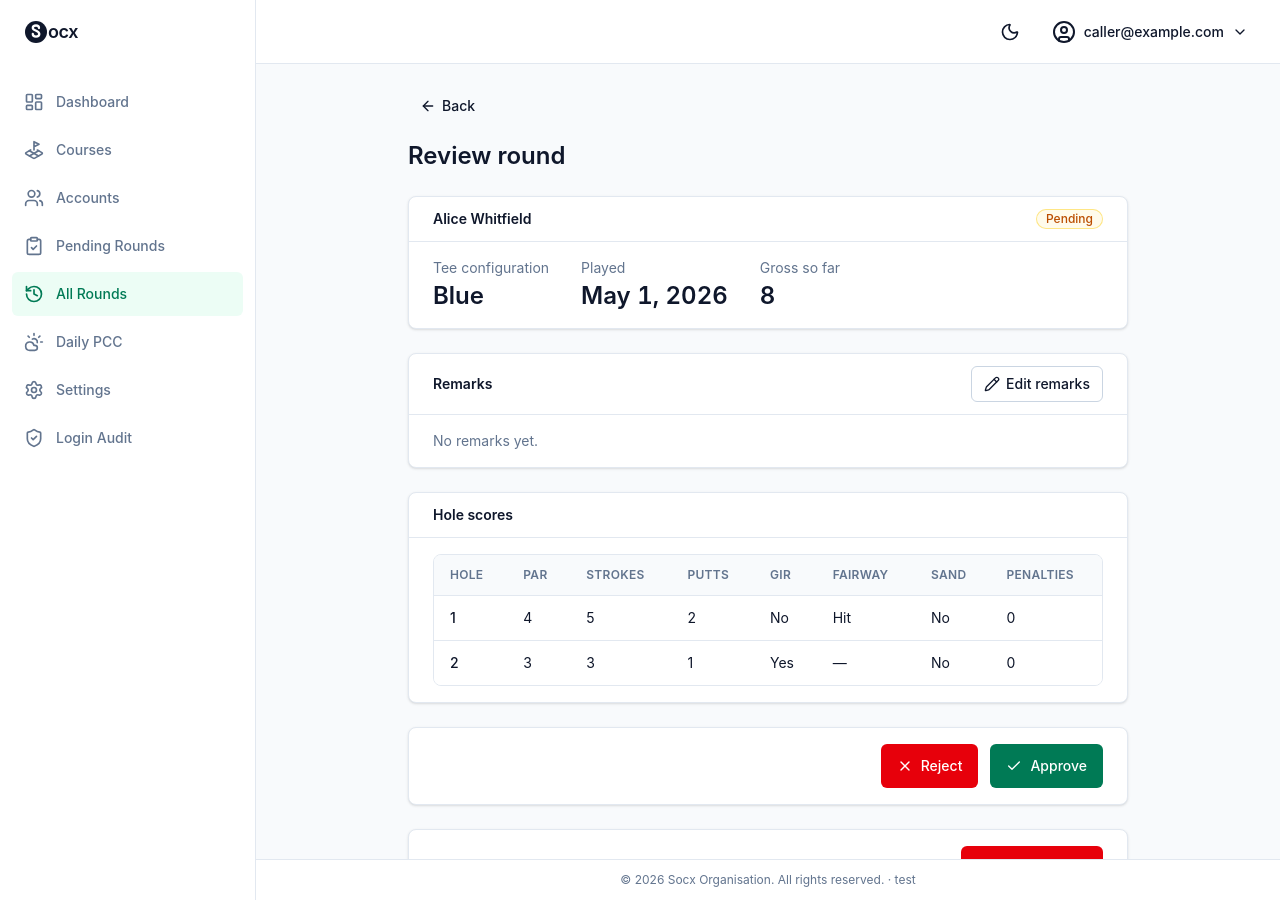
AdminRoundReviewPage › rejects the round with the entered reason, shows a toast, and navigates back to the queue
Click the button "Reject": (930, 766) [881, 744, 978, 788]
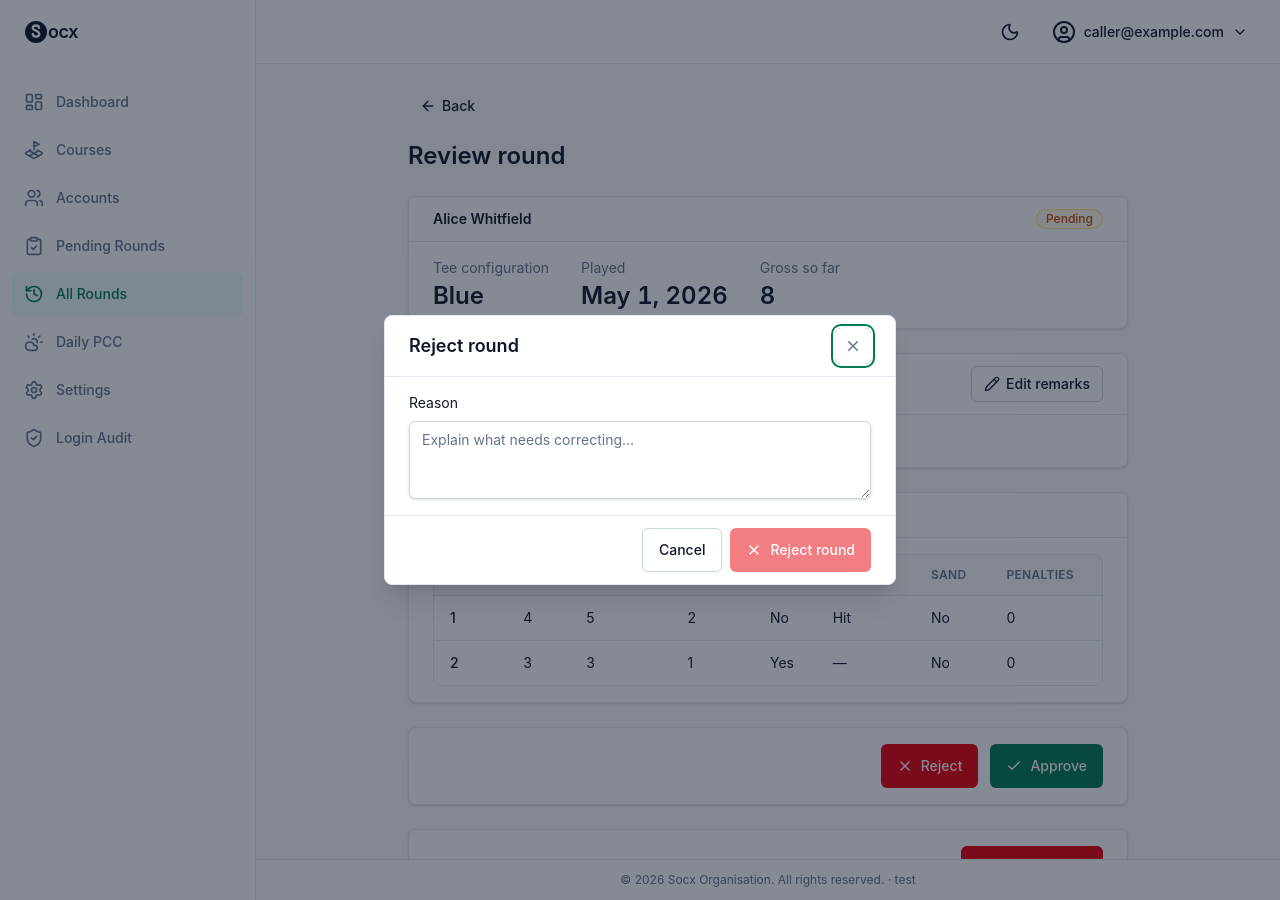
In the text box labelled "Reason": (640, 460) [409, 421, 871, 499], type "Missing hole 2 score."
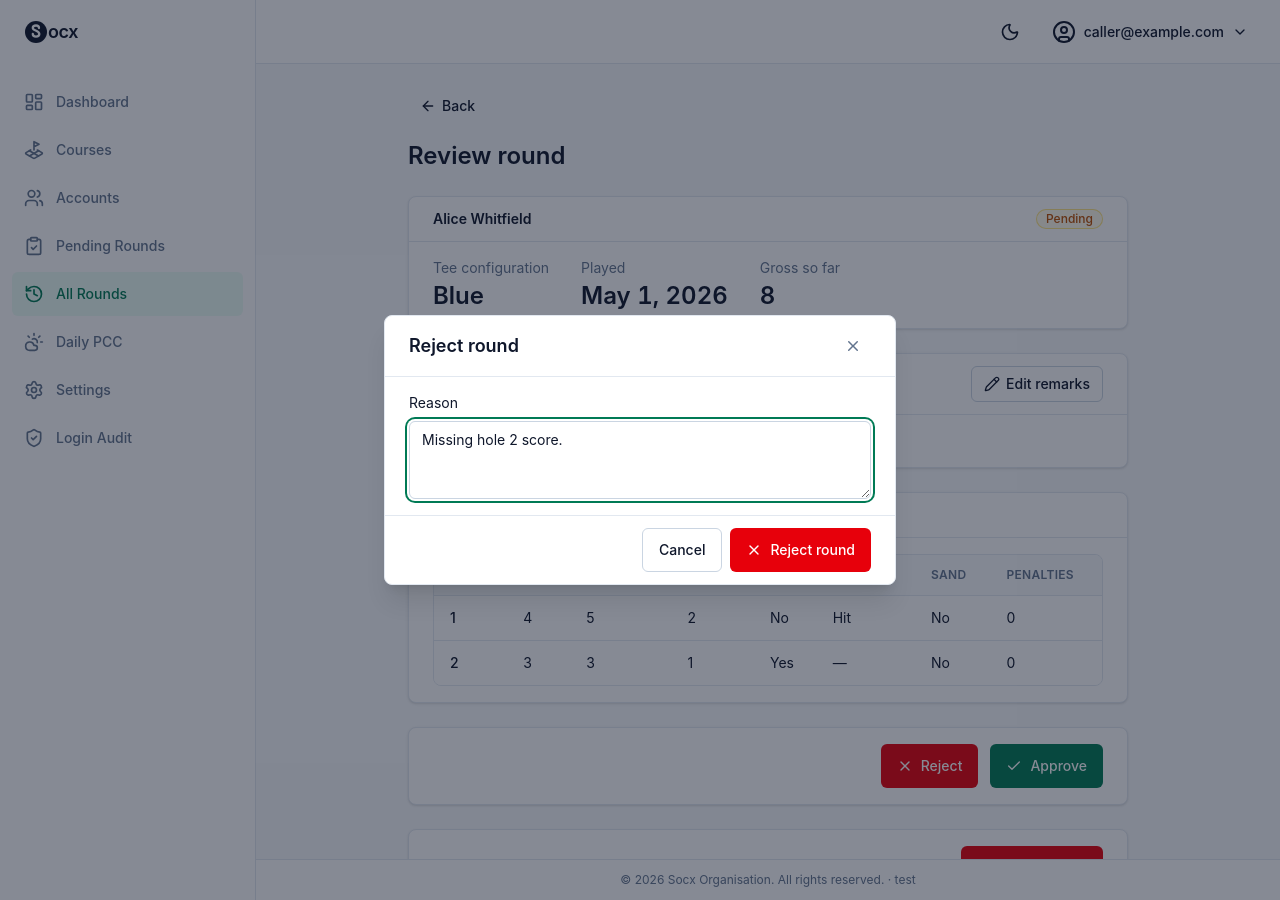
Click the button "Reject round": (801, 550) [730, 528, 871, 572]
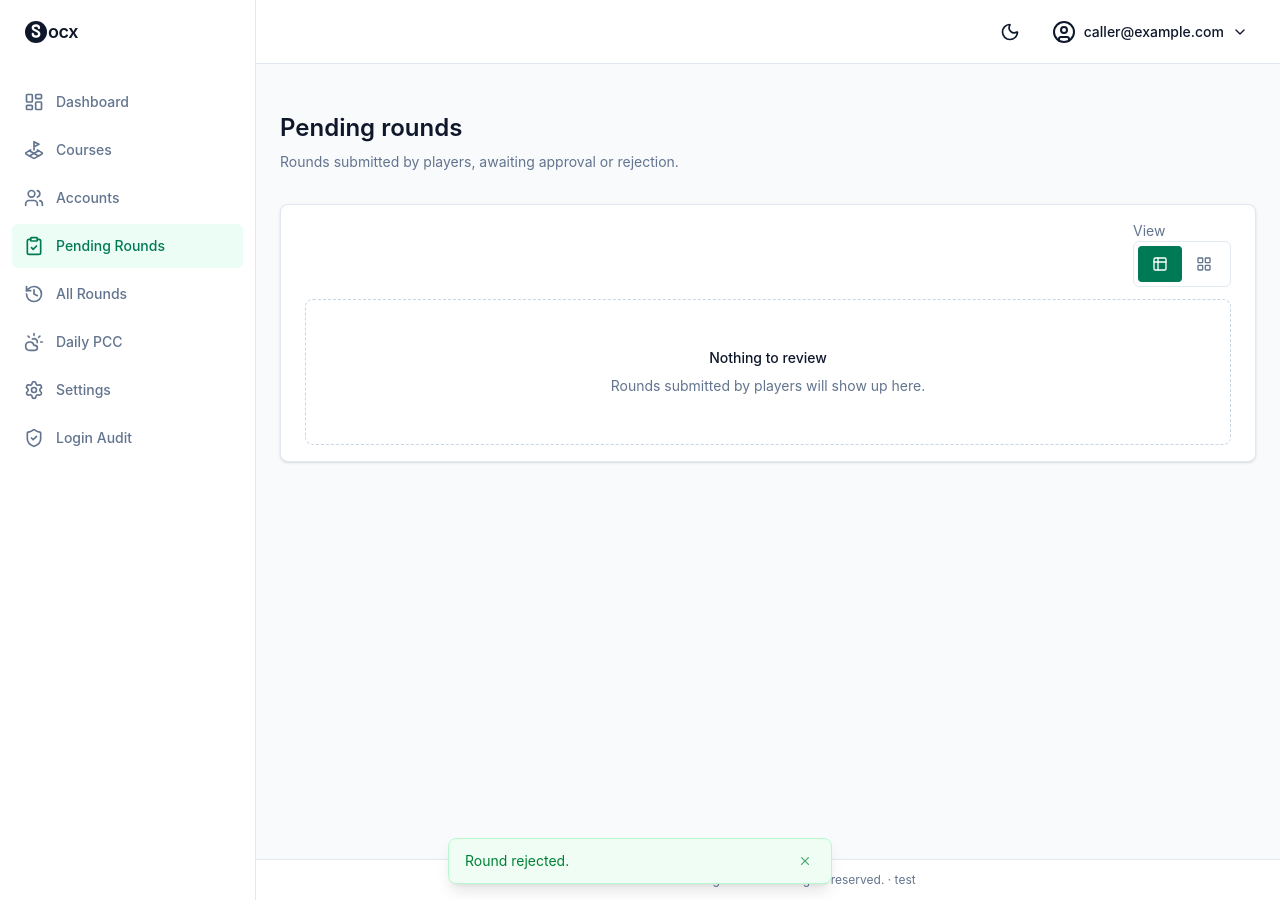
Expected: the message reads "Round rejected.", [465, 852, 569, 869]
Expected: the heading "Pending rounds" is shown, [280, 113, 462, 142]
